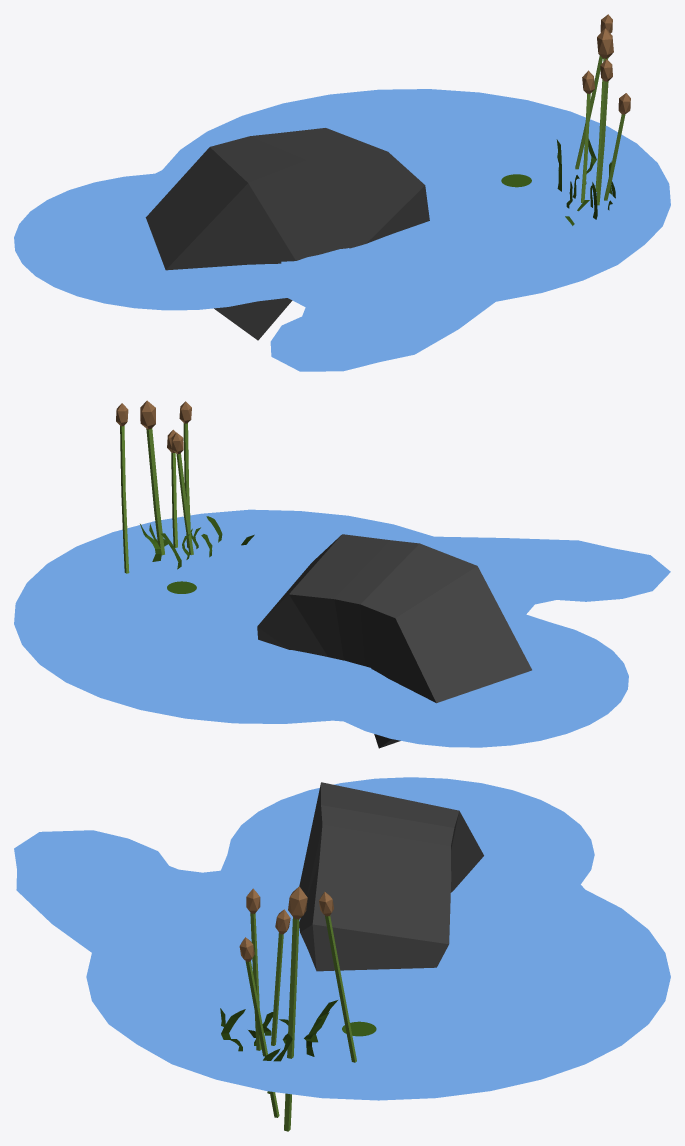
Rendered from JEZIORKO.fbx.
3 renders of one model, top to bottom at view 1: azimuth 30°, elevation 25°; view 2: azimuth 150°, elevation 25°; view 3: azimuth 270°, elevation 25°, orthographic. The views are drawn at different scales.
Parts seen in each view (by area): view 1: Circle, Cube.005, Plane.010; view 2: Circle, Cube.005, Plane.010, Cube.003, Cube.004, Cube.001; view 3: Circle, Cube.005, Plane.010, Cube.003, Cube.004, Cube.002, Cube.001, Cube.
Part boxes in pixels (x1,y1,x2,y2): Circle: (14, 89, 670, 371); Cube.005: (145, 128, 429, 340); Plane.010: (556, 139, 615, 225); Circle: (14, 509, 670, 747); Cube.005: (257, 534, 531, 748); Plane.010: (140, 516, 254, 569); Cube.003: (146, 428, 164, 555); Cube.004: (120, 425, 129, 573); Cube.001: (176, 453, 193, 555); Circle: (14, 777, 670, 1100); Cube.005: (299, 782, 483, 971); Plane.010: (220, 1000, 337, 1061); Cube.003: (284, 917, 299, 1131); Cube.004: (325, 915, 356, 1062); Cube.002: (245, 961, 279, 1117); Cube.001: (267, 933, 283, 1093); Cube: (250, 913, 261, 1050).
Size of the model in its own units: 1719 by 662 by 1476.
